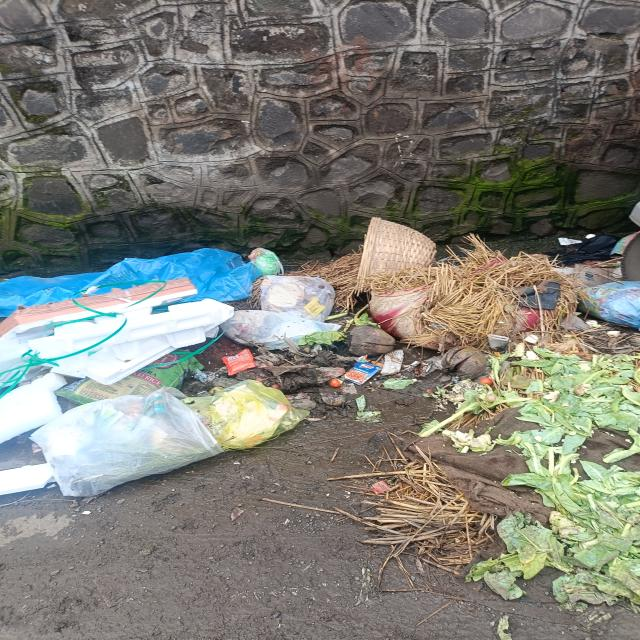garbage: (5, 222, 640, 468), (352, 473, 640, 601)
